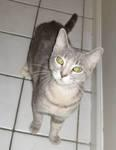cat: (24, 13, 103, 143)
